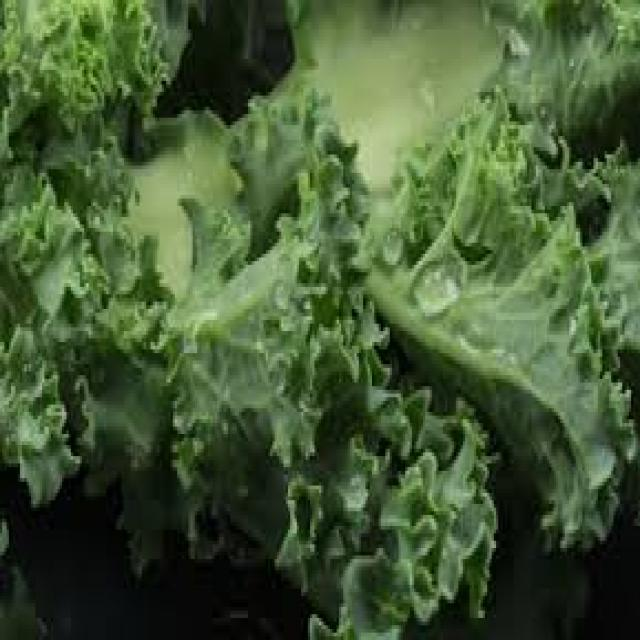organic waste: (0, 0, 638, 636), (76, 99, 490, 636), (241, 0, 638, 552), (0, 0, 184, 497)
